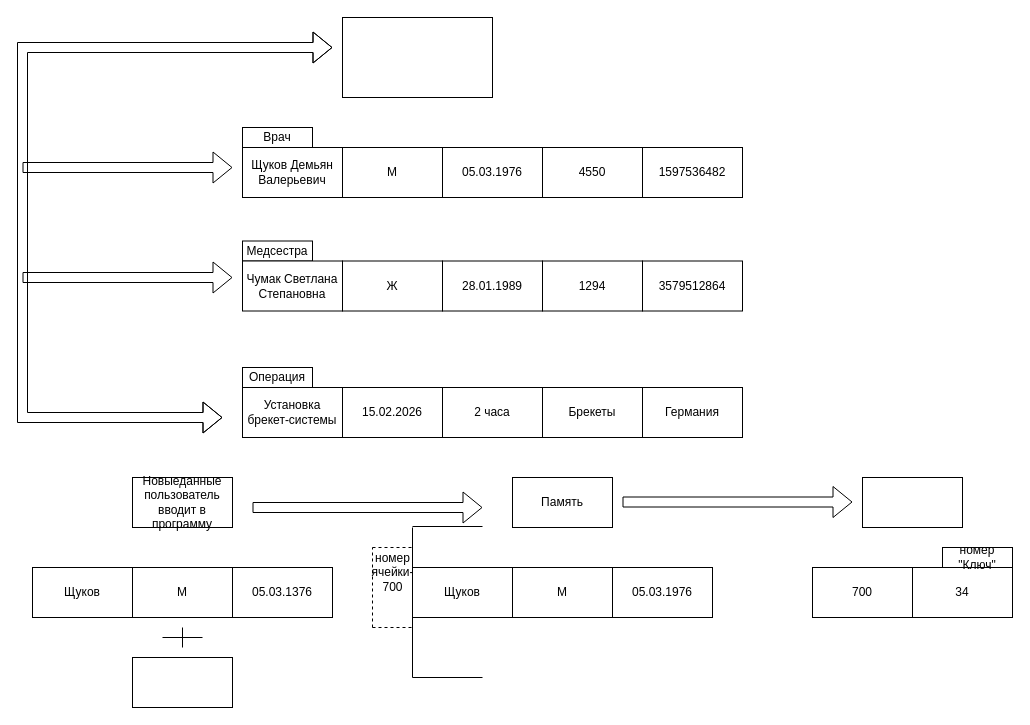
This 1030x725 diagram has some shape labels left out. The shapes that lost their labels are listed below. From the top down, each one's centre as x and y in pixels, then its label:
point 417,57: Стоматологическое отделение
point 912,502: Индекс
point 182,682: ключевое поле "Номер"
